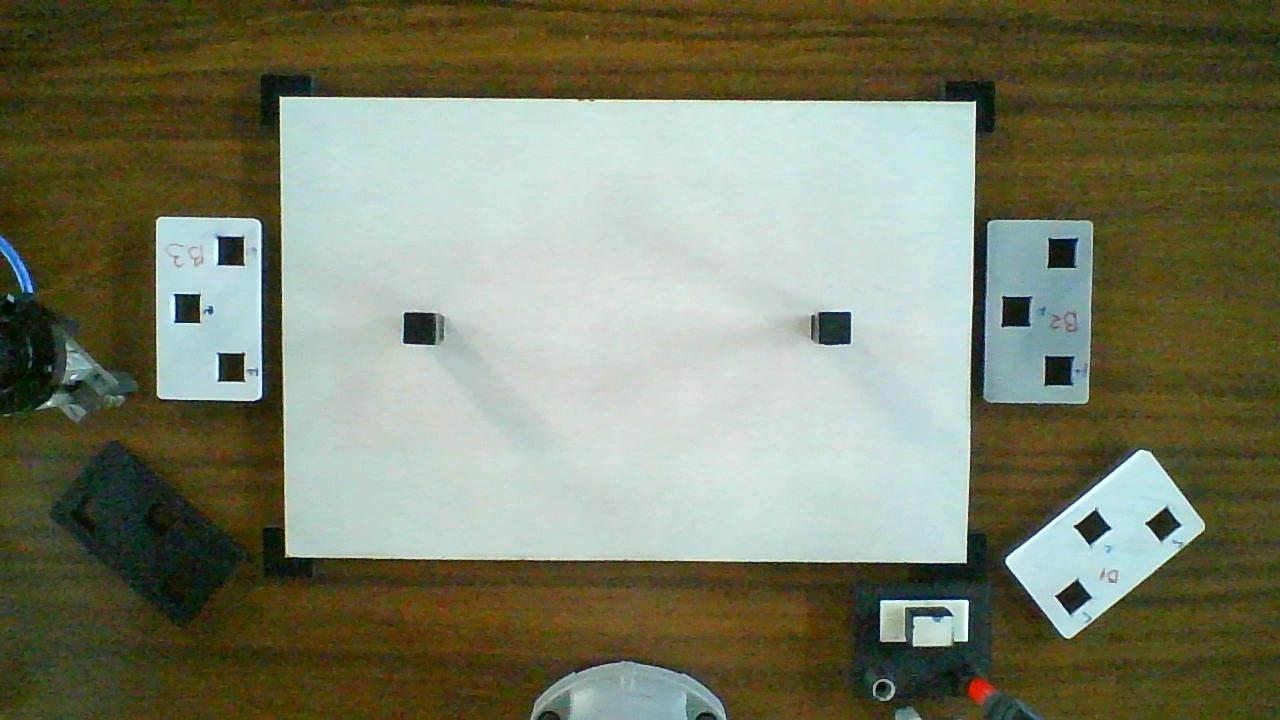peca_preta: (820, 313, 851, 344), (405, 313, 434, 344)
